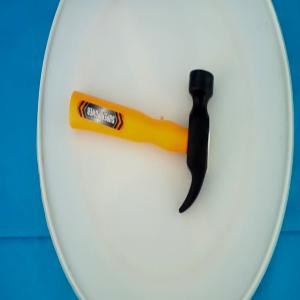martelo: (68, 68, 215, 215)
